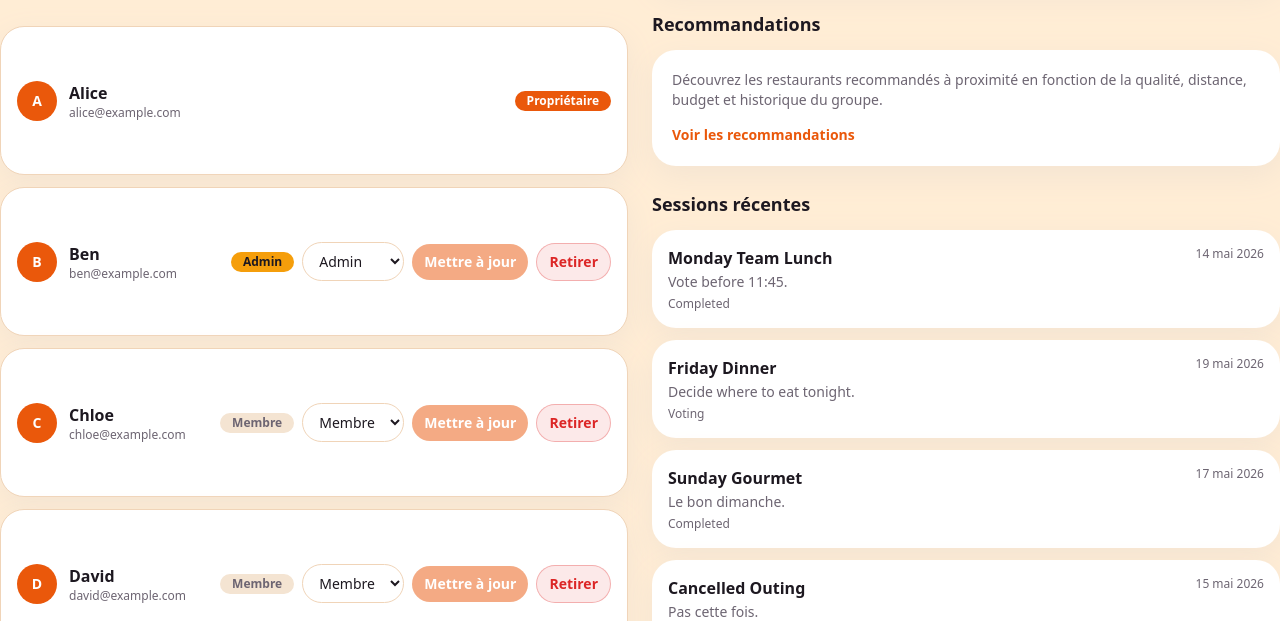
Scenario: GroupDetailPage › keeps a default MSW member removal visible after success
(page scrolled)
Expected: the text "Ben" is shown, [69,242,100,264]
What coordinates should you click on to do the following:
click the button with aria-label "Retirer Ben"
I would click on:
 (574, 262)
Its box is [536,242,611,280].
(page scrolled)
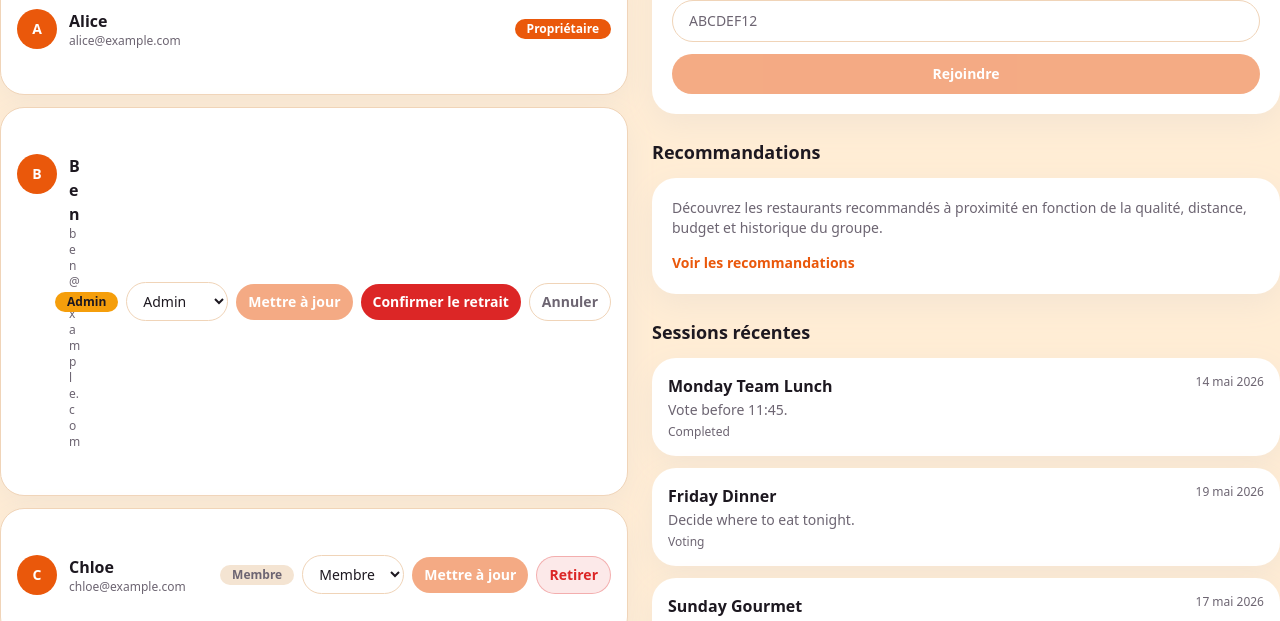
What coordinates should you click on to do the following:
click the button with aria-label "Confirmer le retrait de Ben"
I would click on:
 (441, 302)
Its box is [360,284,521,320].
(page scrolled)
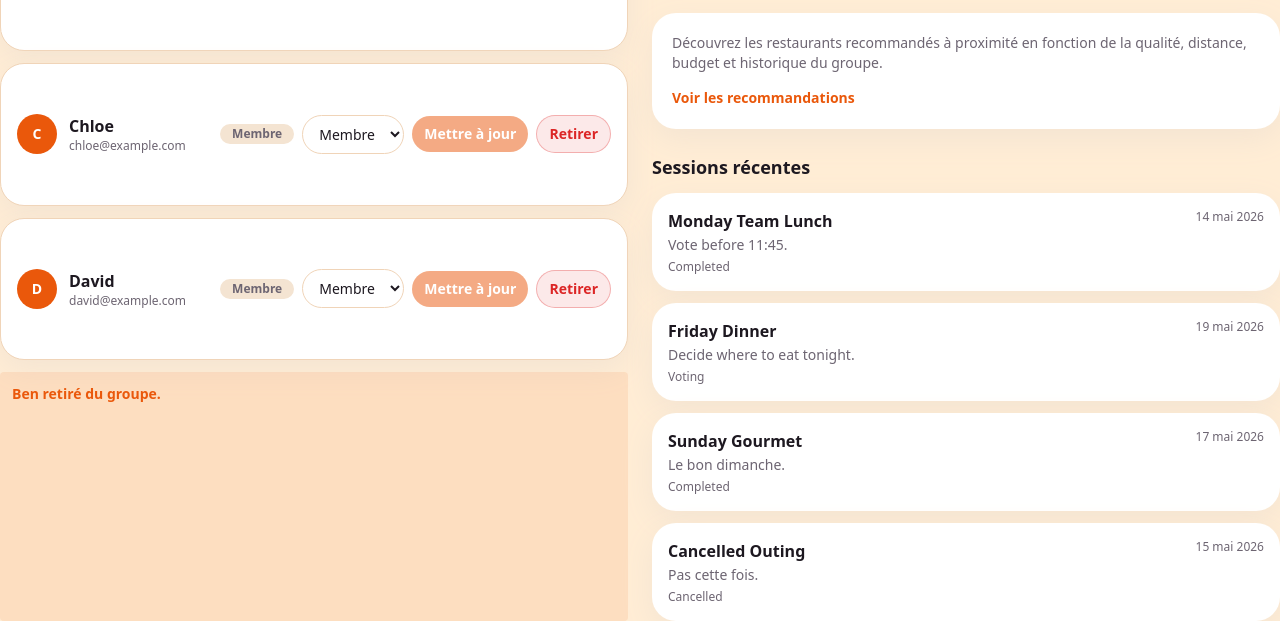
Expected: the text "ben@example.com" is not shown
Now the text "Ben retiré du groupe." is shown, box [0,372,628,620]
